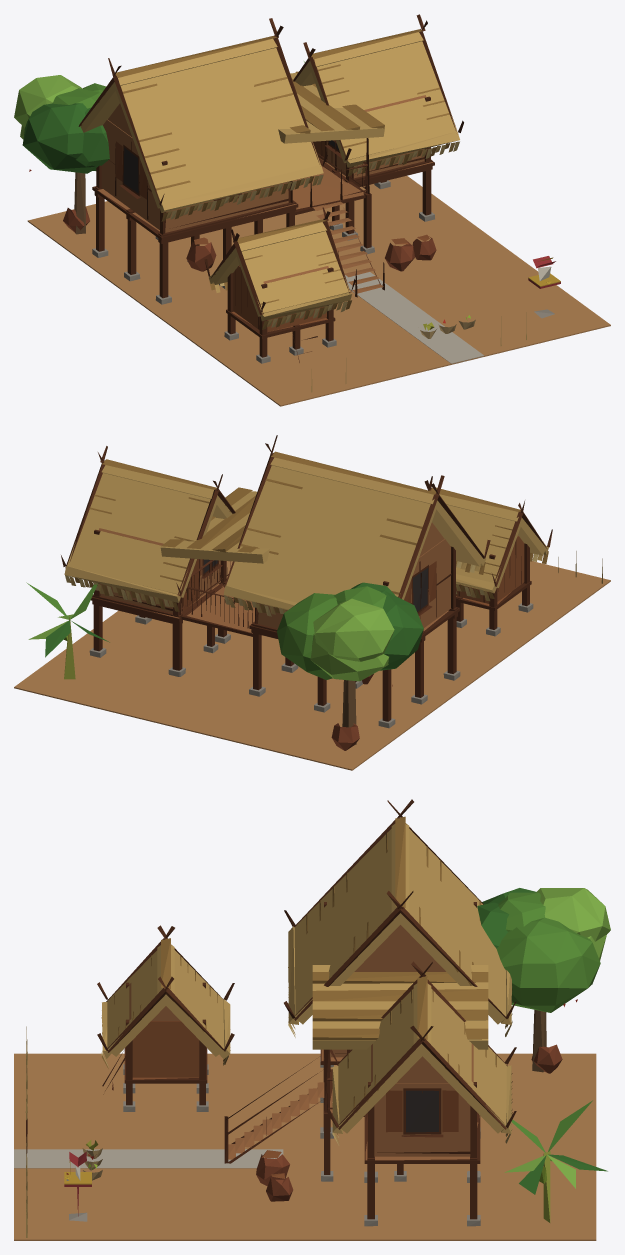
File: house12_2.glb
3 views of the same model, one above another, from view 1: azimuth 30°, elevation 25°; view 2: azimuth 150°, elevation 25°; view 3: azimuth 270°, elevation 25° (orthographic). The views are drawn at different scales.
Parts seen in each view (by area): view 1: body, windows; view 2: body, windows; view 3: body, windows.
Boxes of the visible parts, bbox=[...] form: body: bbox=[14, 14, 610, 406]; windows: bbox=[123, 140, 339, 193]; body: bbox=[14, 435, 610, 770]; windows: bbox=[203, 559, 428, 611]; body: bbox=[14, 799, 610, 1240]; windows: bbox=[406, 1090, 438, 1132].
Bounding box in the file's own units: 13.23 × 7.74 × 16.3.
